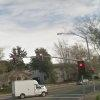Car: (75, 78, 94, 88)
